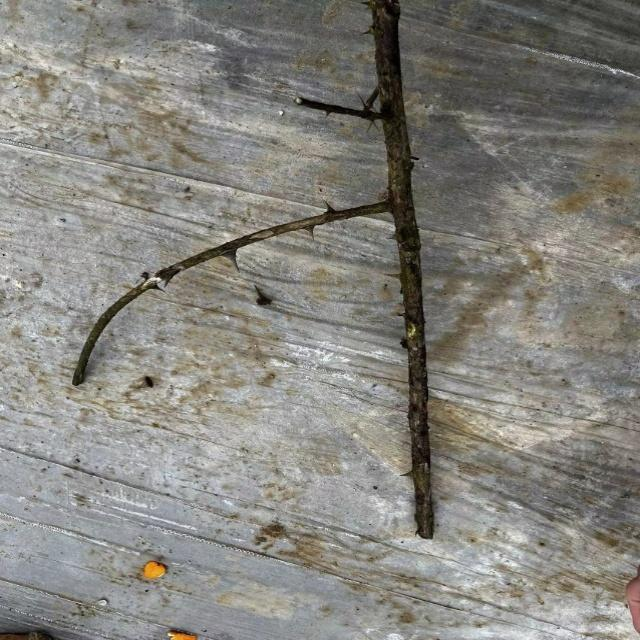branch: (316, 0, 436, 541), (72, 208, 384, 388)
